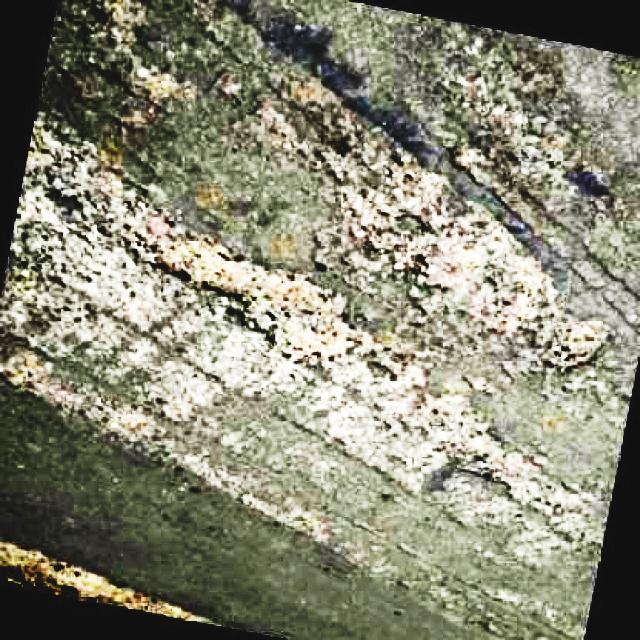pothole: (41, 146, 354, 365), (338, 157, 622, 383)
